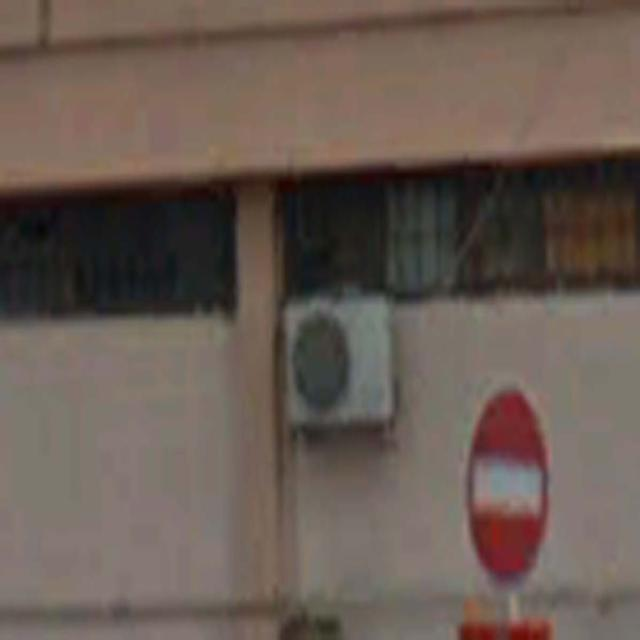girisyok: (463, 384, 552, 582)
